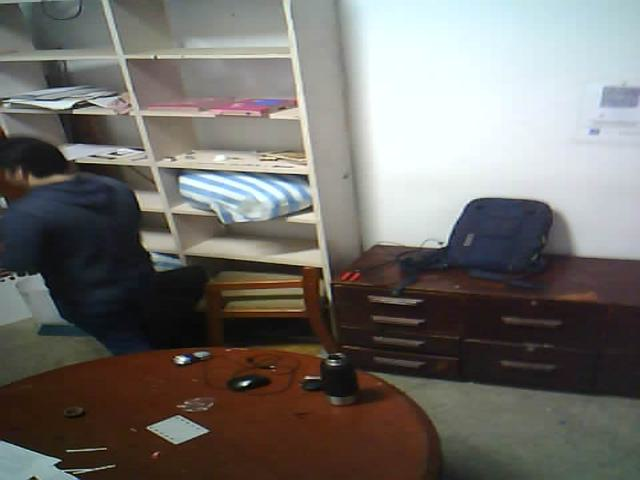person: (0, 100, 207, 397)
